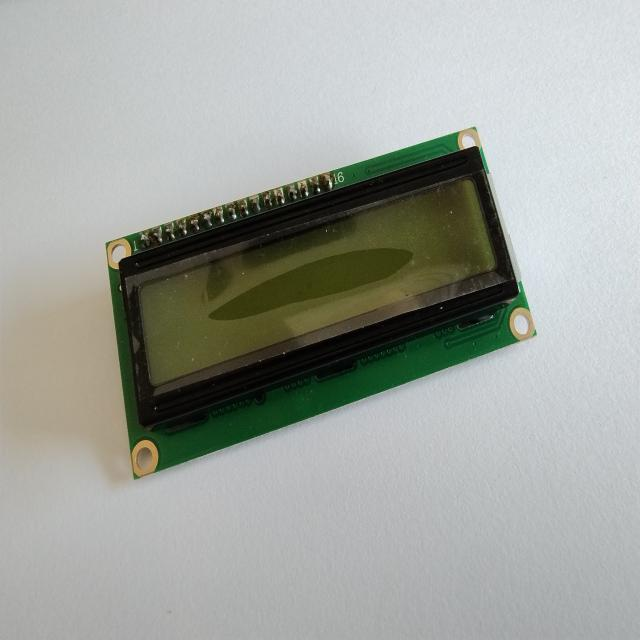lcd: (103, 124, 537, 478)
